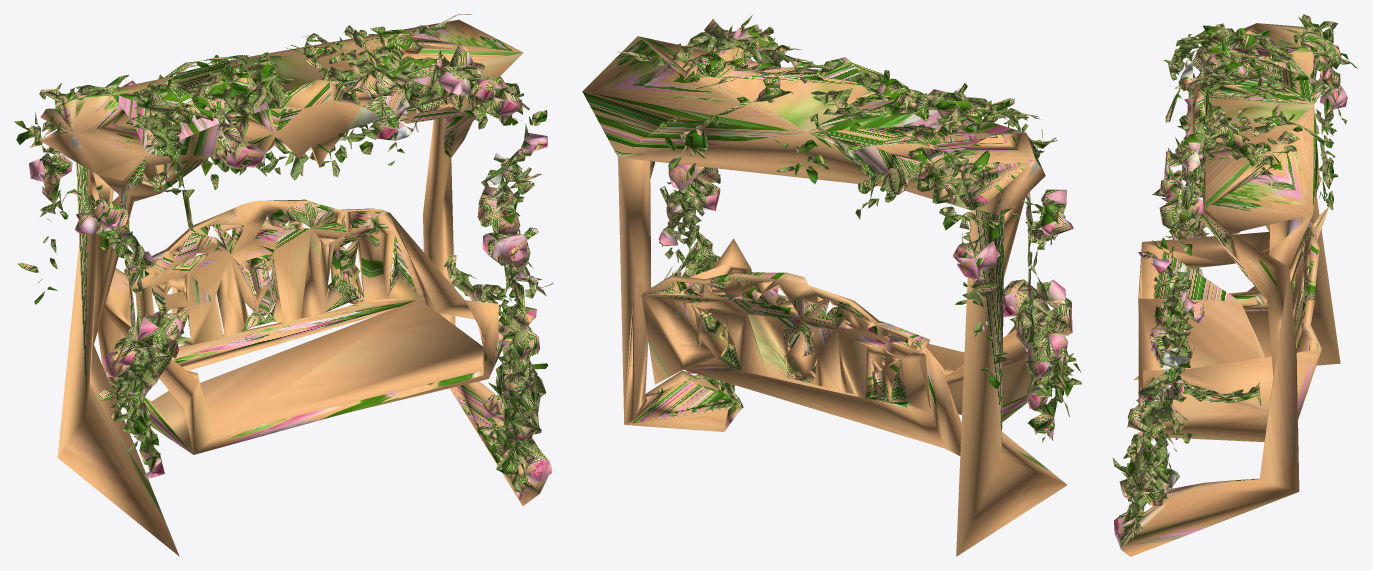
File: For_Diana_This_beauti.glb
3 views of the same model, side by side, from view 1: azimuth 30°, elevation 25°; view 2: azimuth 150°, elevation 25°; view 3: azimuth 270°, elevation 25° (orthographic). The views are drawn at different scales.
Parts seen in each view (by area): view 1: For_Diana_This_beauti; view 2: For_Diana_This_beauti; view 3: For_Diana_This_beauti.
Boxes of the visible parts, x1=… form: For_Diana_This_beauti: x1=14, y1=14, x2=553, y2=556; For_Diana_This_beauti: x1=582, y1=15, x2=1081, y2=556; For_Diana_This_beauti: x1=1112, y1=14, x2=1357, y2=556.
Bounding box in the file's own units: 1.89 × 1.87 × 1.01.
Materials: 1 (1 with a texture image).
